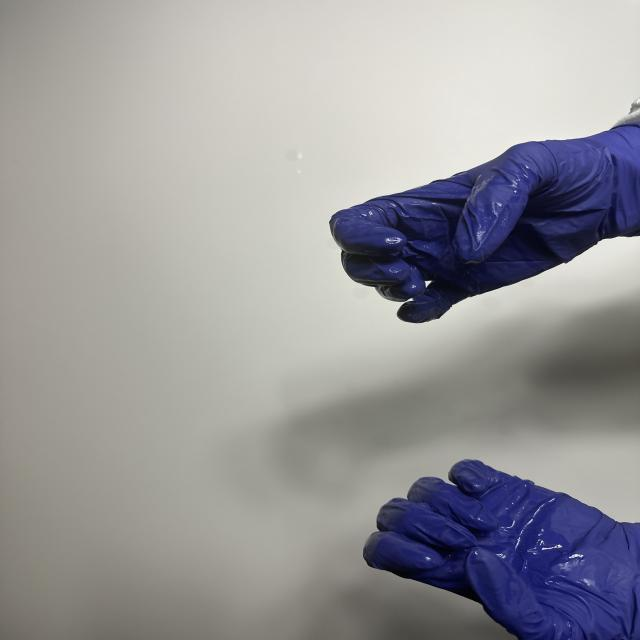gloves_contaminated: (330, 108, 640, 323), (363, 460, 640, 640)
